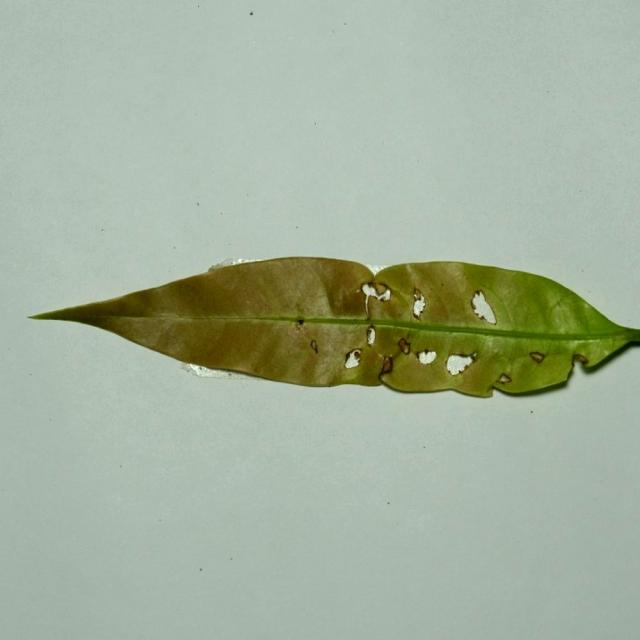Anthracnose: (470, 291, 508, 328), (361, 282, 391, 316), (445, 353, 477, 376), (412, 288, 426, 320), (344, 348, 362, 369), (416, 350, 437, 365), (361, 283, 377, 298), (397, 337, 411, 354), (380, 356, 393, 374), (366, 325, 376, 346), (573, 353, 589, 365), (496, 373, 512, 384), (529, 352, 545, 363), (413, 286, 423, 302), (310, 339, 318, 354), (294, 321, 305, 331), (473, 290, 482, 302)
Mango: (32, 257, 639, 401)
